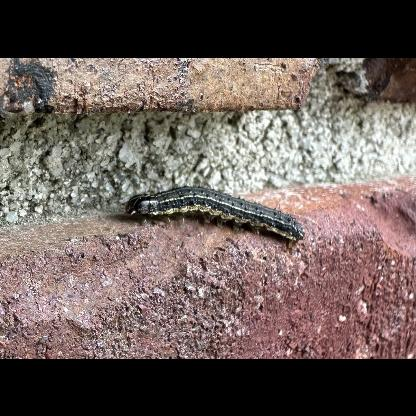Fall Armyworm Larvae: (121, 180, 309, 248)
